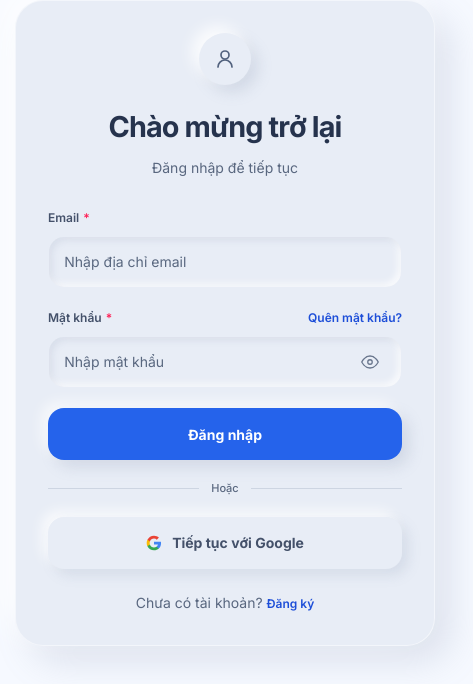
Scenario: Auth Soft UI accessibility › provides real labels and an accessible password visibility control
Click the button named "Hiện mật khẩu". click: (370, 362)
box: [354,346,386,378]
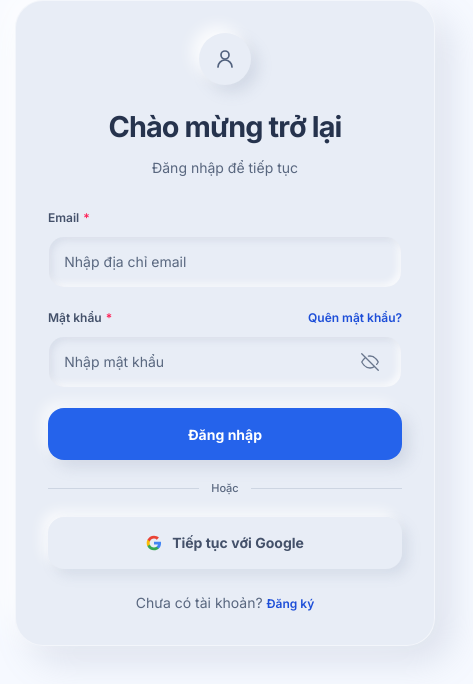
Now the button named "Ẩn mật khẩu" is shown, box [354,346,386,378]
